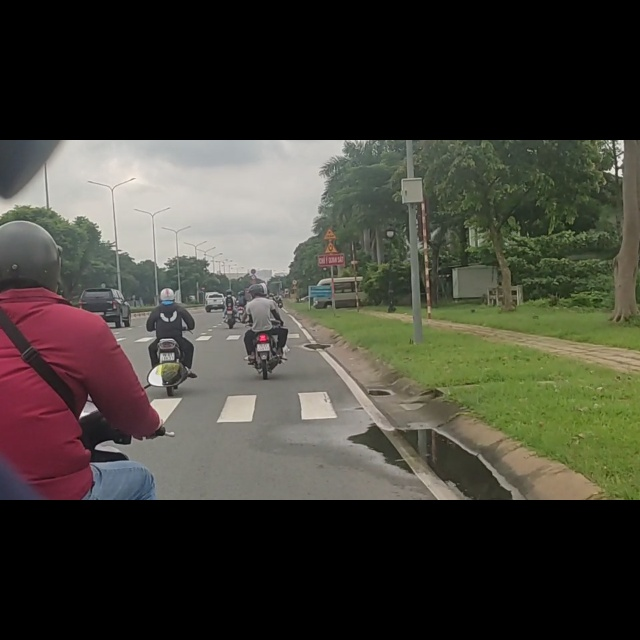bien_nguy_hiem: (325, 181, 340, 203), (323, 155, 337, 178), (251, 229, 257, 239)
